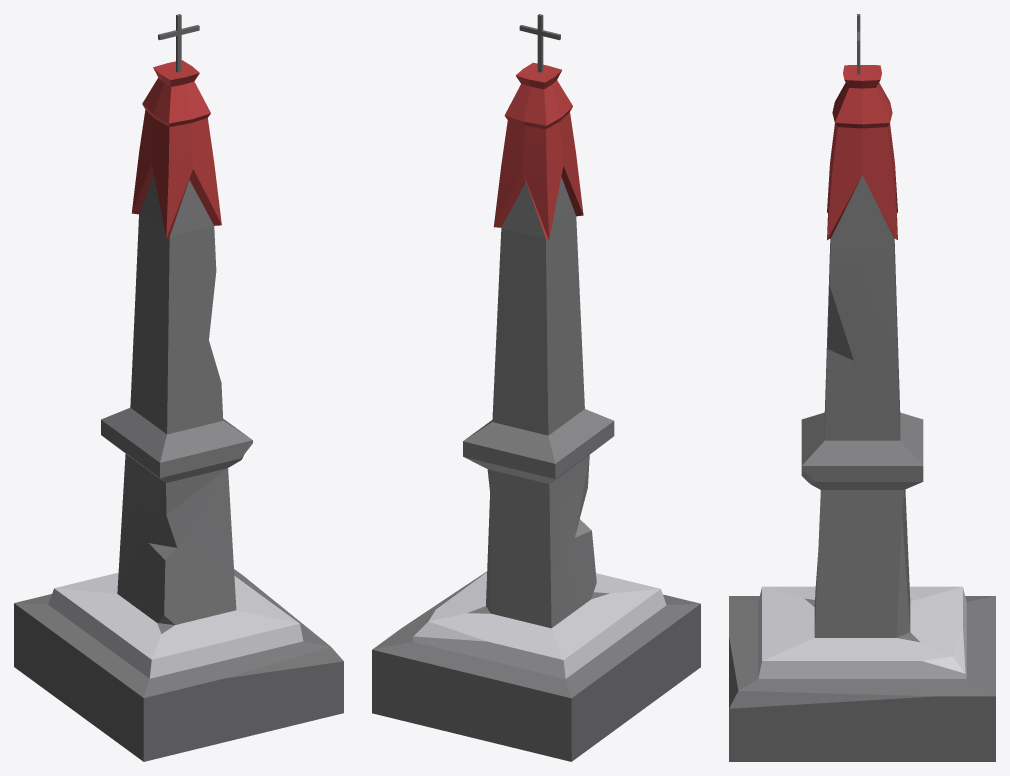
The model's file is ea_bld_obelisk_2d_pre_2_lev1.glb.
3 views of the same model, side by side, from view 1: azimuth 30°, elevation 25°; view 2: azimuth 150°, elevation 25°; view 3: azimuth 270°, elevation 25° (orthographic). The views are drawn at different scales.
Parts seen in each view (by area): view 1: ea_bld_obelisk_2d_pre_2_lev1; view 2: ea_bld_obelisk_2d_pre_2_lev1; view 3: ea_bld_obelisk_2d_pre_2_lev1.
Part boxes in pixels (x1,y1,x2,y2): ea_bld_obelisk_2d_pre_2_lev1: [14, 14, 343, 761]; ea_bld_obelisk_2d_pre_2_lev1: [372, 14, 700, 761]; ea_bld_obelisk_2d_pre_2_lev1: [729, 14, 995, 761].
Size of the model in its own units: 2.5 by 8.08 by 2.81.
1 material, 1 textured.
